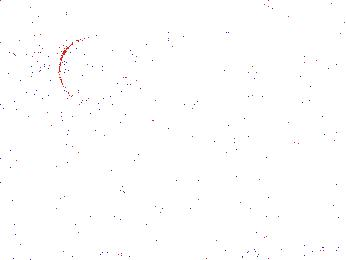moon jellyfish: (81, 1, 185, 72), (261, 1, 346, 45), (59, 35, 117, 99)
